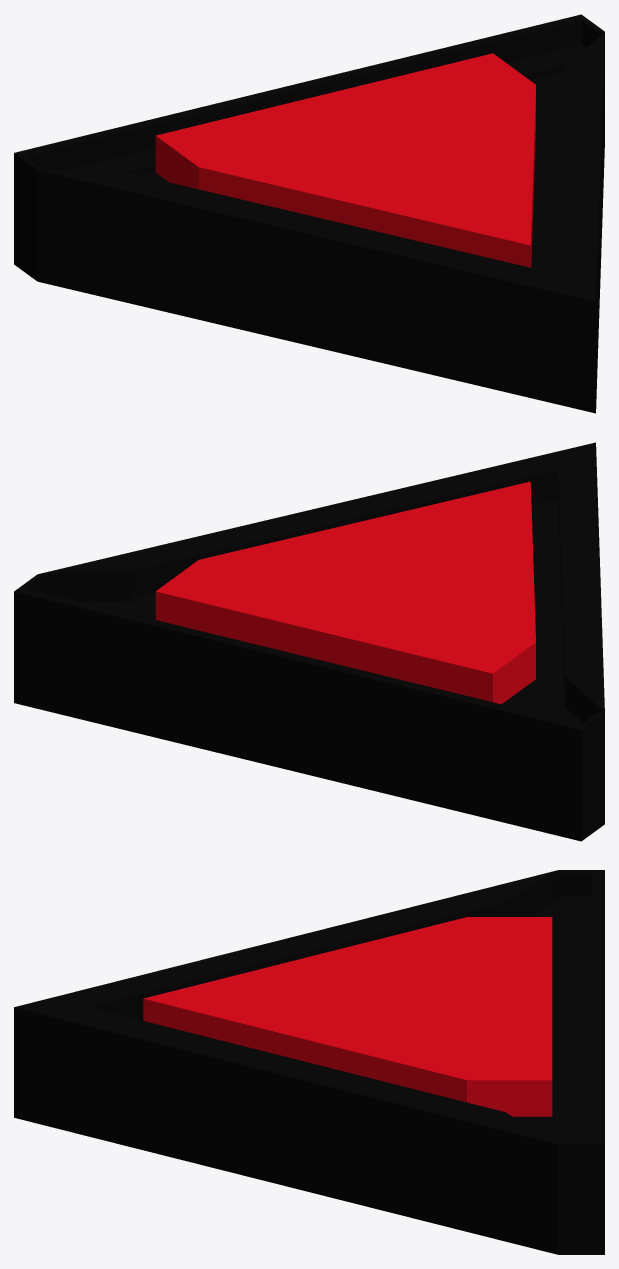
File: ArrowButton.fbx
3 renders of one model, top to bottom at view 1: azimuth 30°, elevation 25°; view 2: azimuth 150°, elevation 25°; view 3: azimuth 270°, elevation 25°, orthographic.
Parts seen in each view (by area): view 1: Cube; view 2: Cube; view 3: Cube.
Boxes of the visible parts, left/top/right/bottom form: Cube: left=14, top=14, right=604, bottom=413; Cube: left=14, top=442, right=604, bottom=841; Cube: left=14, top=870, right=604, bottom=1254.
Bounding box in the file's own units: 283 × 57.27 × 258.
